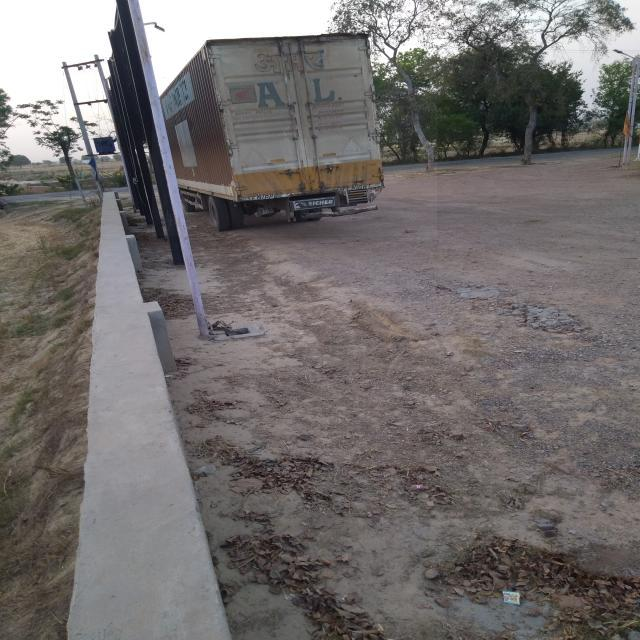Truck: (152, 46, 437, 236)
